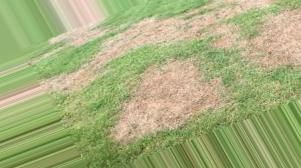patch: (125, 61, 196, 134), (221, 11, 298, 69), (101, 22, 189, 65), (52, 73, 107, 88)
